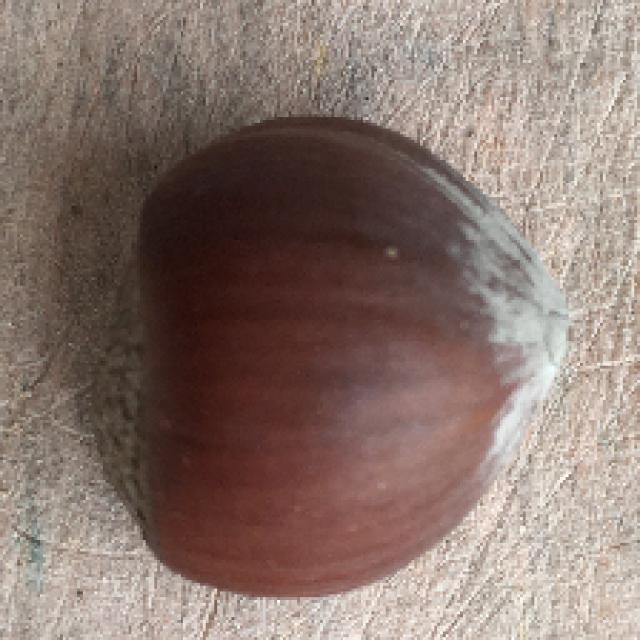qualityHazelnut: (81, 108, 581, 603)
